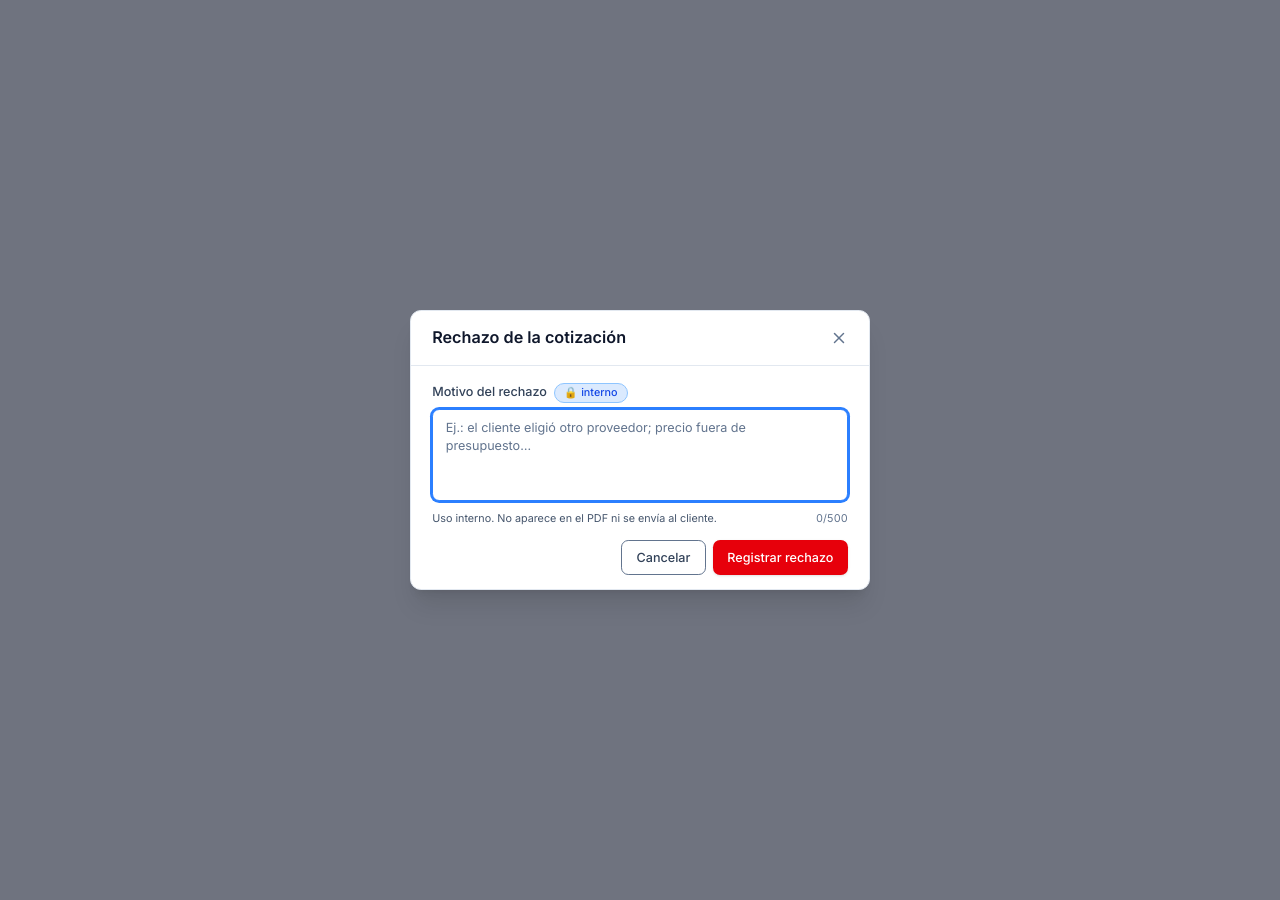
RejectQuotationModal › motivo vacío → error inline y NO dispara el PATCH
What coordinates should you click on to do the following:
click the button "Registrar rechazo"
I would click on:
 (780, 558)
Its box is [713,540,848,575].
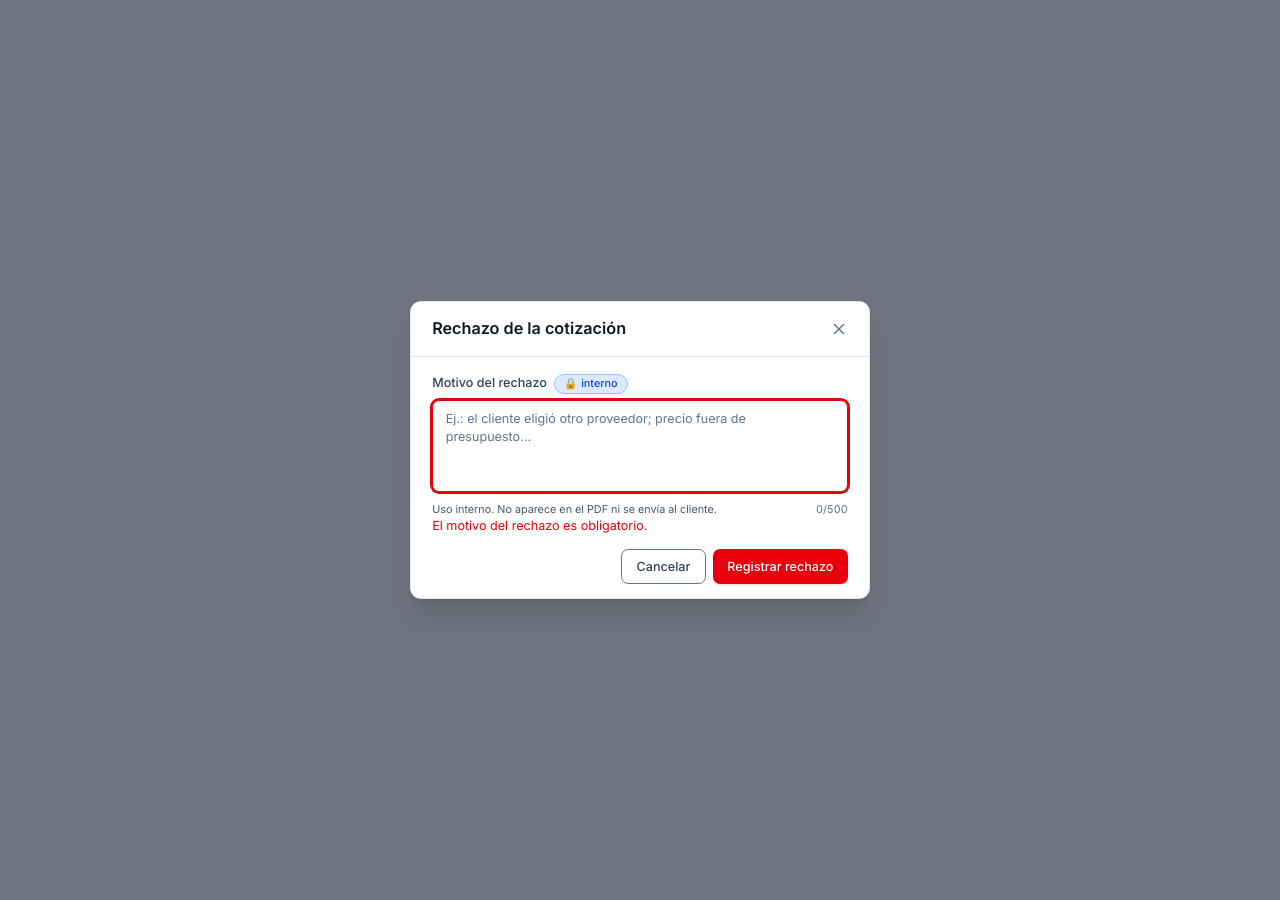
Expected: the text "El motivo del rechazo es obligatorio." is shown, [432,518,648,533]
